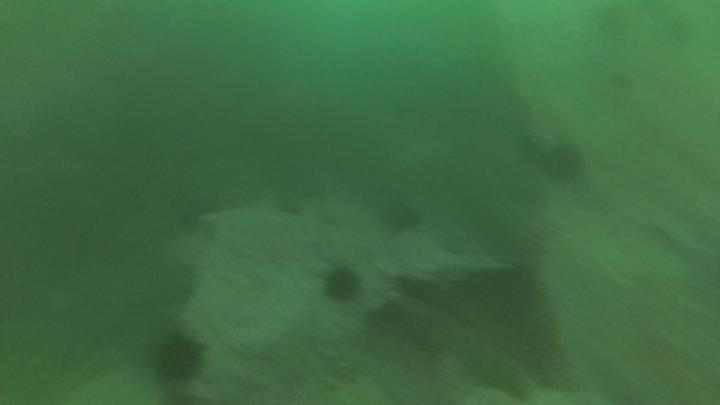echinus: (146, 331, 208, 387), (540, 139, 587, 186), (320, 263, 366, 307), (596, 2, 638, 44), (384, 200, 425, 235)
